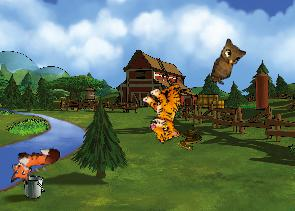fox: (7, 146, 62, 186)
owl: (209, 37, 248, 89)
tiger: (135, 78, 198, 145)
